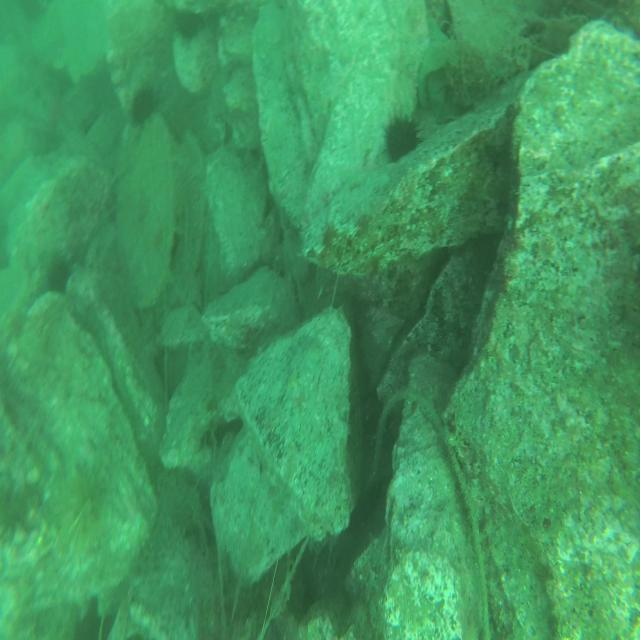echinus: (379, 114, 425, 166), (125, 79, 162, 130), (38, 253, 78, 294), (174, 7, 204, 41)
holothurian: (170, 130, 208, 294), (150, 469, 206, 542), (39, 468, 92, 528)
